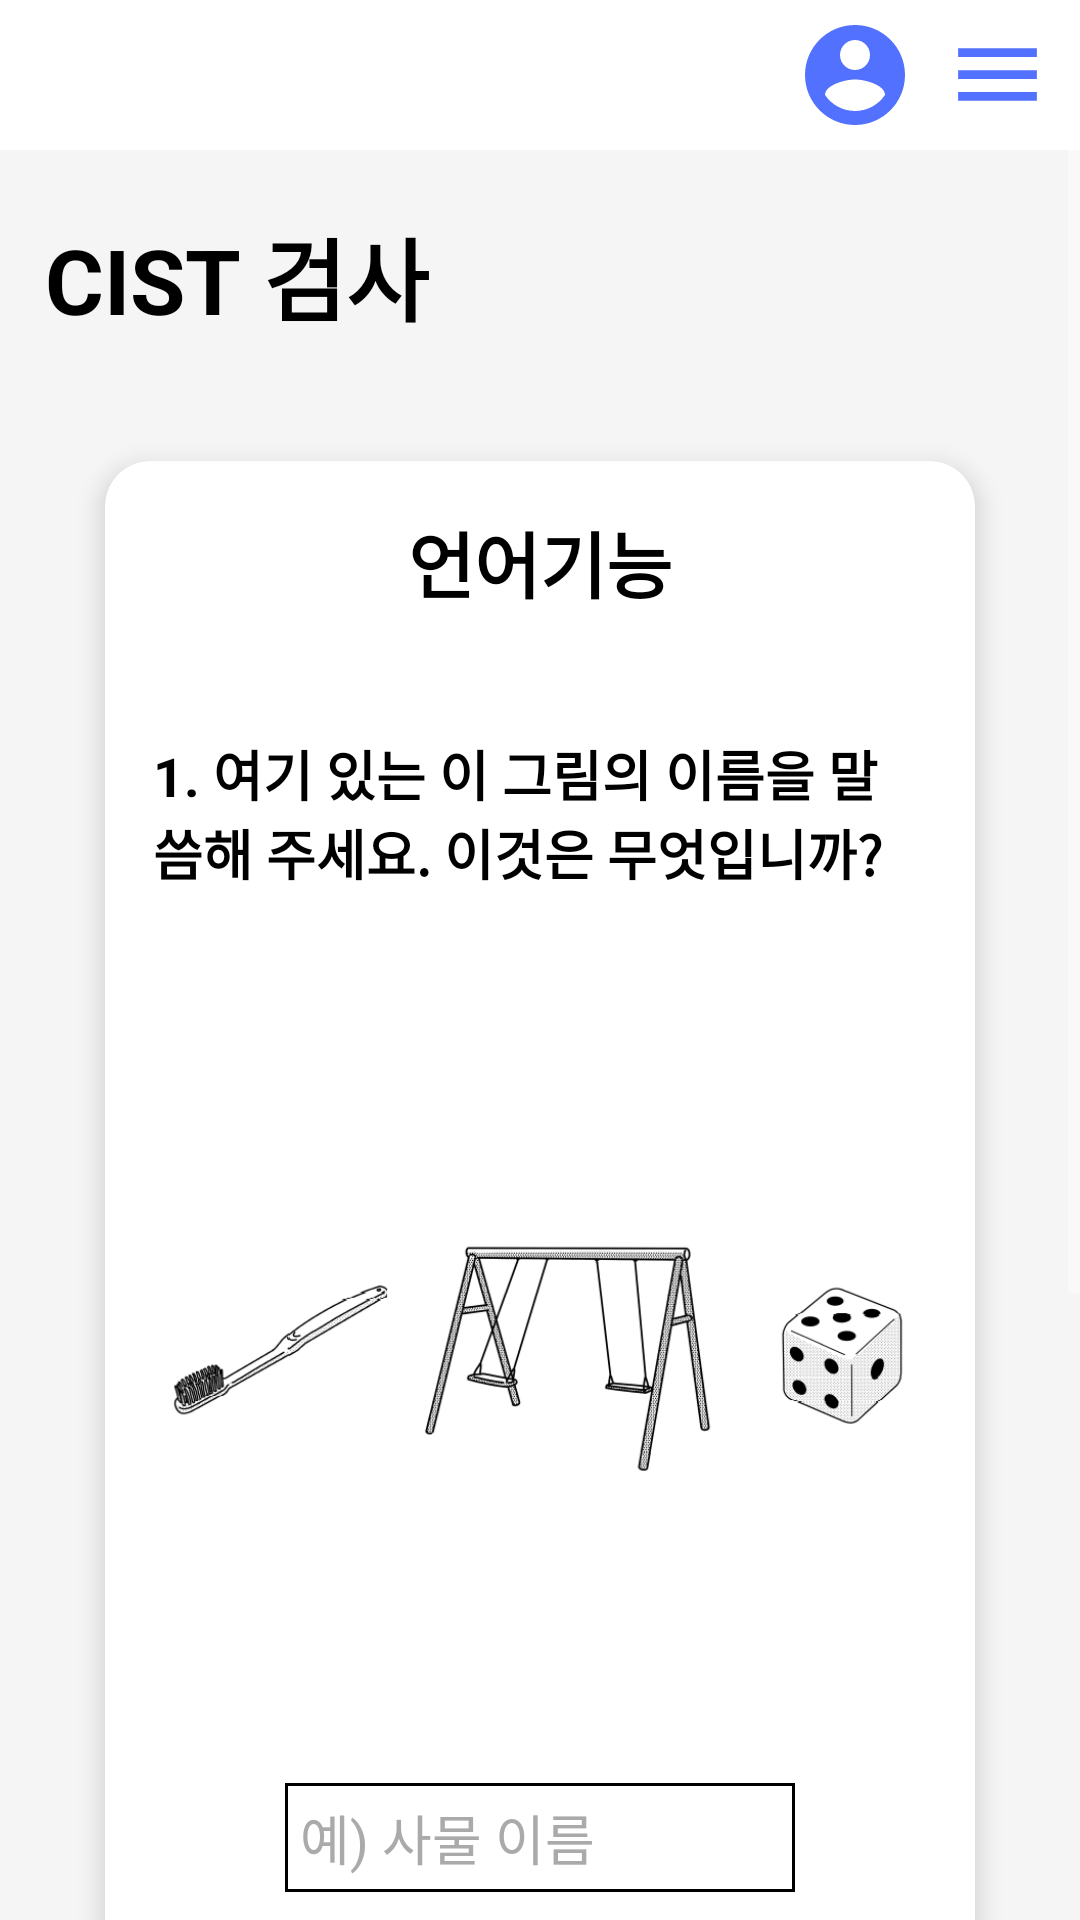

Icons on this 1080w x 1920h Android screen, each with the point to tap as point (x, y):
account circle: point (855, 75)
menu: point (997, 74)
